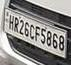2: (18, 18, 23, 34)
5: (39, 27, 45, 43)
6: (51, 32, 57, 48), (23, 20, 28, 36)
8: (58, 33, 64, 51), (45, 29, 51, 46)
C: (28, 22, 34, 39)
F: (34, 24, 39, 40)
H: (7, 14, 13, 29)
R: (13, 14, 19, 32)
